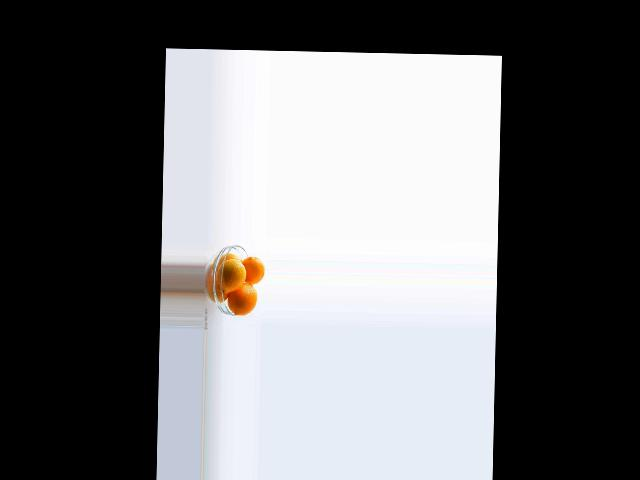lemon: (231, 281, 257, 317)
